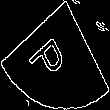P_NE: (32, 25, 78, 85)
